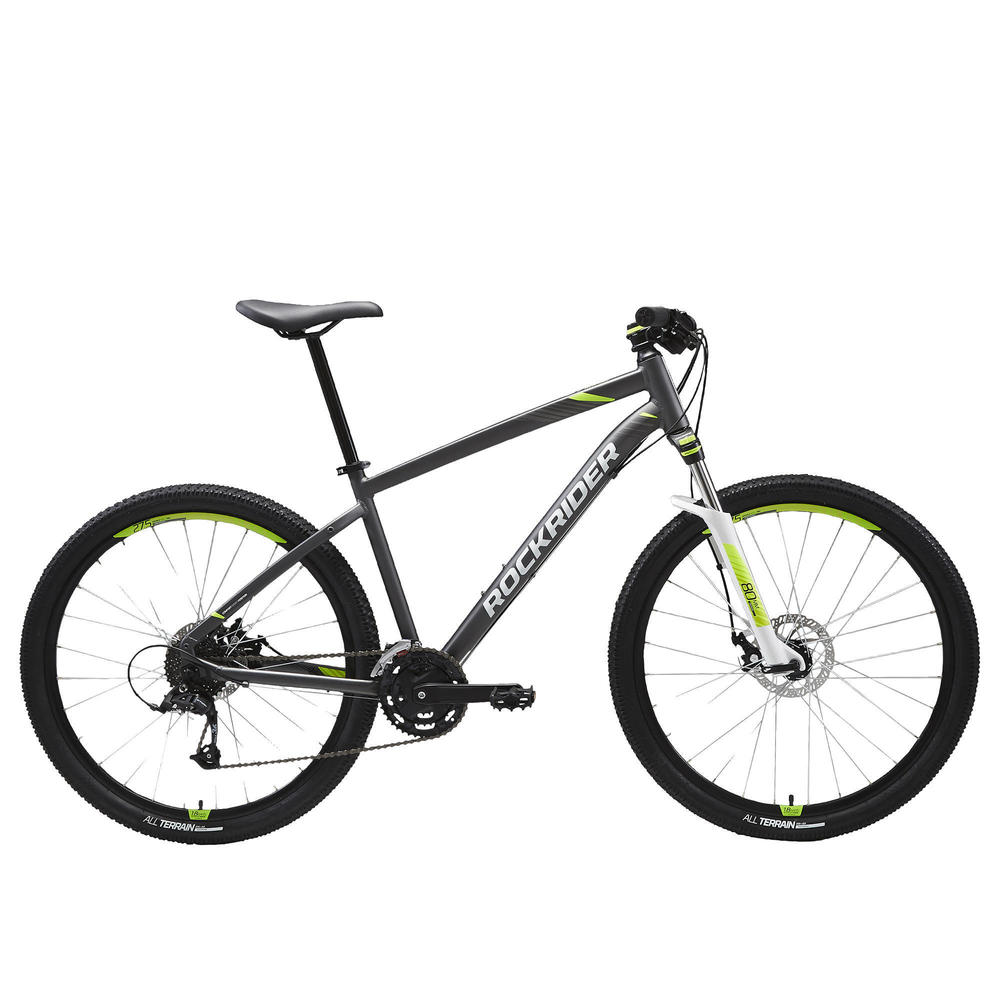MountainBike: (8, 299, 992, 864)
